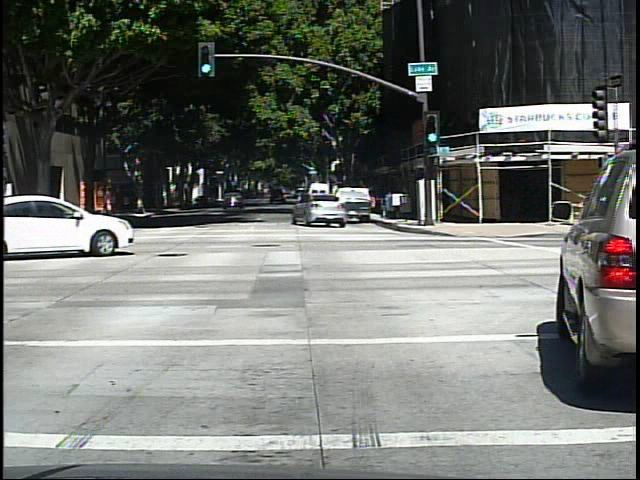person: (100, 188, 111, 216)
